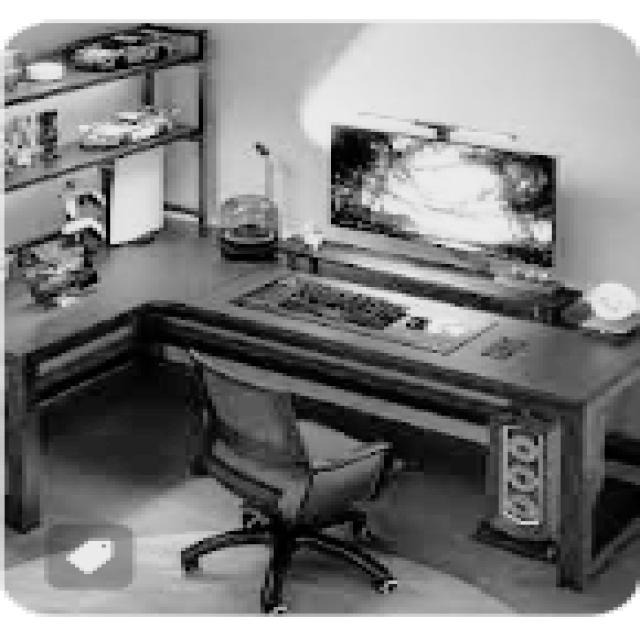book: (177, 346, 397, 614)
table: (4, 224, 636, 590)
